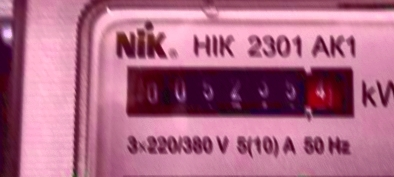0: (144, 79, 160, 105), (173, 77, 187, 102)
2: (228, 75, 242, 100)
3: (256, 73, 270, 98)
4: (313, 76, 328, 102)
5: (283, 73, 298, 101), (200, 75, 215, 102)
screen: (117, 56, 366, 128)
